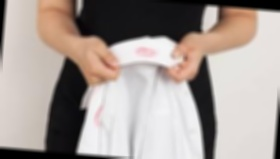lipstick: (91, 102, 108, 131), (129, 45, 159, 60)
